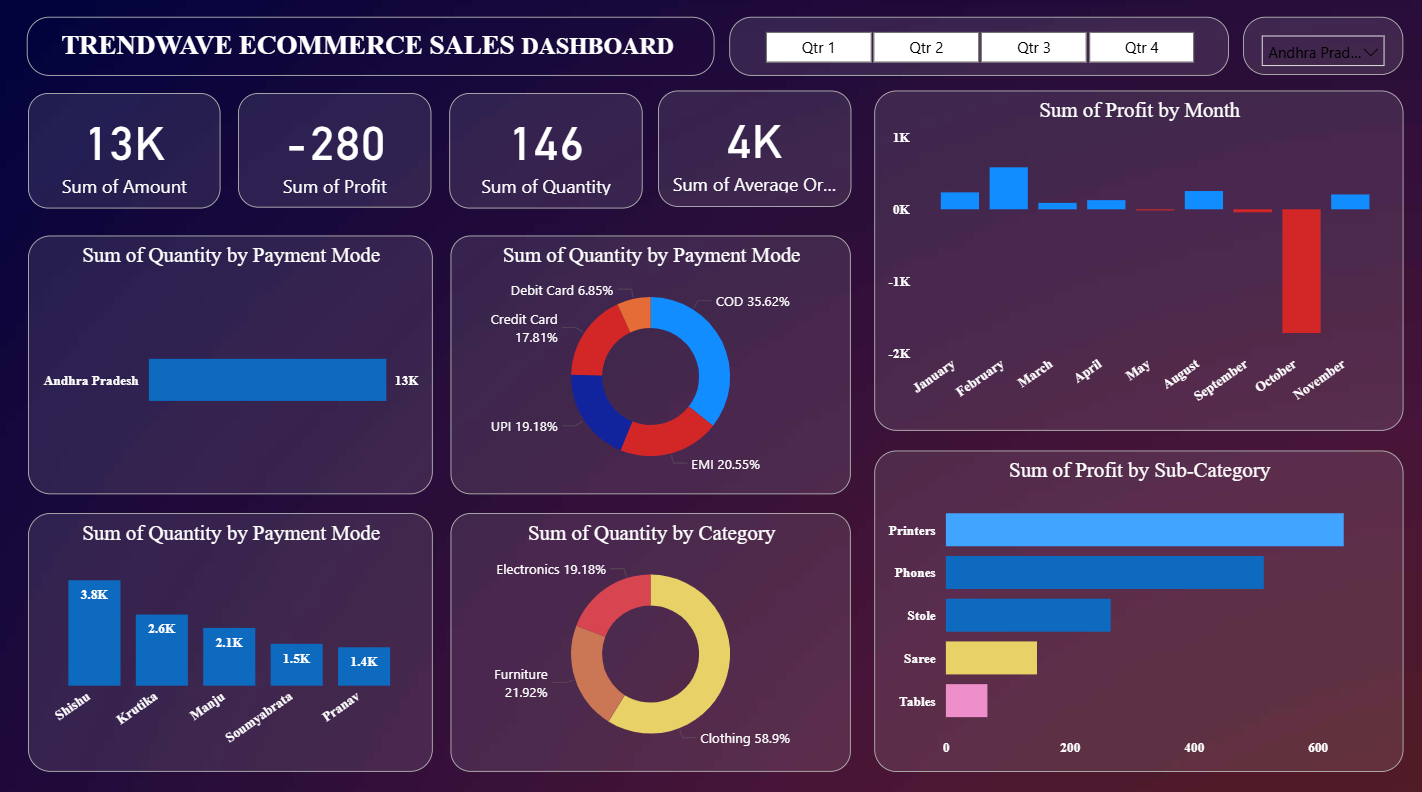

The dashboard page shown, as its layout file describes it:
{"tool":"powerbi","page":{"name":"Page 1","canvas":[1280,720],"ordinal":0},"visuals":[{"type":"textbox","box":[25.5,16.4,614.5,52.7],"z":0},{"type":"columnChart","fields":{"Y":["Sum(Details.Profit)"],"Category":["Orders.Order Date.Variation.Date Hierarchy.Month","Orders.Order Date.Variation.Date Hierarchy.Day"]},"box":[782.5,82.5,472.5,303.8],"z":1000},{"type":"barChart","fields":{"Category":["Details.Sub-Category"],"Y":["Sum(Details.Profit)"]},"box":[782.5,403.8,472.5,287.5],"z":2000},{"type":"donutChart","fields":{"Category":["Details.Category"],"Y":["Sum(Details.Quantity)"]},"box":[403.8,460,357.5,231.2],"z":3000},{"type":"donutChart","title":"Sum of Quantity by Payment Mode","fields":{"Y":["Sum(Details.Quantity)"],"Category":["Details.PaymentMode"]},"box":[403.8,212.5,357.5,231.2],"z":4000},{"type":"card","fields":{"Values":["Sum(Details.Amount)"]},"box":[26.4,84.5,172.3,103.1],"z":5000},{"type":"card","fields":{"Values":["Sum(Details.Profit)"]},"box":[214.4,84.9,173.1,102.7],"z":6000},{"type":"card","fields":{"Values":["Sum(Details.Quantity)"]},"box":[403.3,84.5,173.1,103.1],"z":7000},{"type":"card","fields":{"Values":["Sum(Details.Average Order Value)"]},"box":[589.7,83,172.5,103.8],"z":8000},{"type":"barChart","title":"Sum of Quantity by Payment Mode","fields":{"Category":["Orders.State"],"Y":["Sum(Details.Amount)"]},"box":[26.2,212.5,361.2,231.2],"z":9000},{"type":"columnChart","title":"Sum of Quantity by Payment Mode","fields":{"Category":["Orders.CustomerName"],"Y":["Sum(Details.Amount)"]},"box":[26.2,460,361.2,231.2],"z":10000},{"type":"slicer","fields":{"Values":["Orders.Order Date.Variation.Date Hierarchy.Quarter"]},"box":[653.6,16.4,446.4,52.7],"z":11000},{"type":"slicer","fields":{"Values":["Orders.State"]},"box":[1112.2,16.7,143.3,52.2],"z":12000}]}

Visuals, with their boxes in screenshot pixels (x1, y1, x2, y2), scaled from the page's 1280x720 canvas onto the 1422x792 screenshot:
textbox: select_region(28, 18, 711, 76)
columnChart - Sum(Details.Profit) x Orders.Order Date.Variation.Date Hierarchy.Month: select_region(869, 91, 1394, 425)
barChart - Details.Sub-Category x Sum(Details.Profit): select_region(869, 444, 1394, 760)
donutChart - Details.Category x Sum(Details.Quantity): select_region(449, 506, 846, 760)
"Sum of Quantity by Payment Mode" donutChart: select_region(449, 234, 846, 488)
card - Sum(Details.Amount): select_region(29, 93, 221, 206)
card - Sum(Details.Profit): select_region(238, 93, 430, 206)
card - Sum(Details.Quantity): select_region(448, 93, 640, 206)
card - Sum(Details.Average Order Value): select_region(655, 91, 847, 205)
"Sum of Quantity by Payment Mode" barChart: select_region(29, 234, 430, 488)
"Sum of Quantity by Payment Mode" columnChart: select_region(29, 506, 430, 760)
slicer - Orders.Order Date.Variation.Date Hierarchy.Quarter: select_region(726, 18, 1222, 76)
slicer - Orders.State: select_region(1236, 18, 1395, 76)
